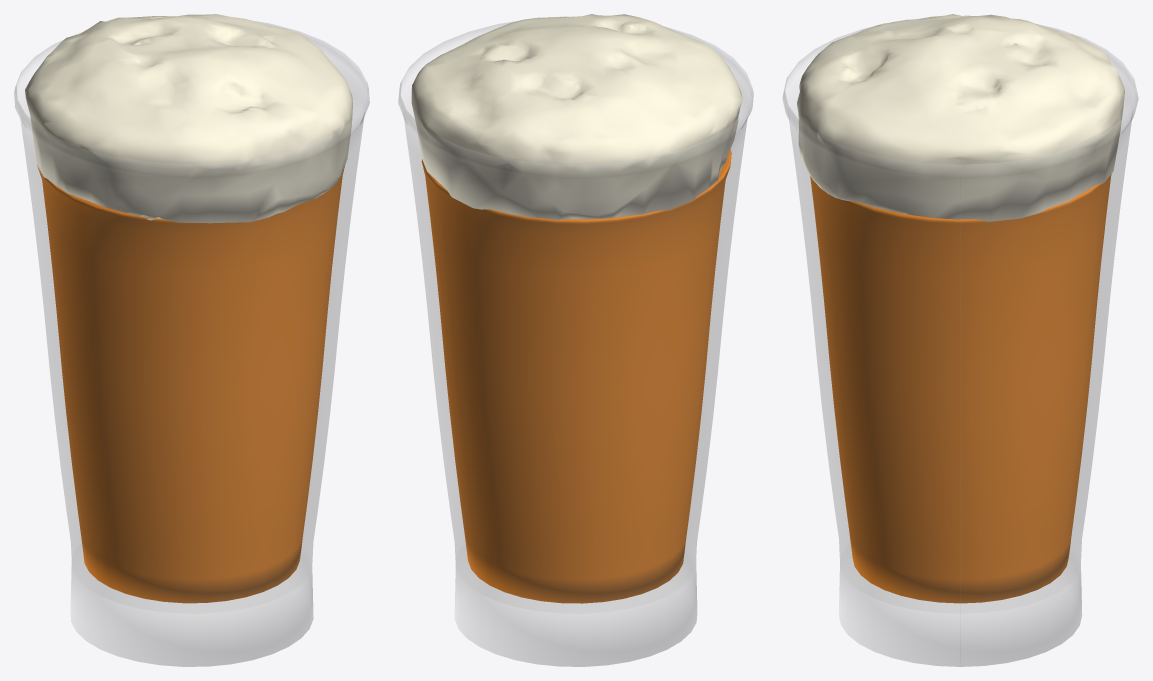
Rendered from pint.glb.
3 renders of one model, left to right at view 1: azimuth 30°, elevation 25°; view 2: azimuth 150°, elevation 25°; view 3: azimuth 270°, elevation 25°, orthographic.
Visible parts, largest first — view 1: glass, liquid, foam; view 2: glass, liquid, foam; view 3: glass, liquid, foam.
Part boxes in pixels (<box>): glass: <box>14,22,369,666</box>; liquid: <box>37,165,344,603</box>; foam: <box>25,14,352,223</box>; glass: <box>398,16,753,666</box>; liquid: <box>421,149,731,603</box>; foam: <box>411,14,742,219</box>; glass: <box>782,18,1138,666</box>; liquid: <box>810,174,1111,603</box>; foam: <box>797,14,1124,221</box>.
Bounding box in the file's own units: 0.1496 × 0.2641 × 0.1496.
